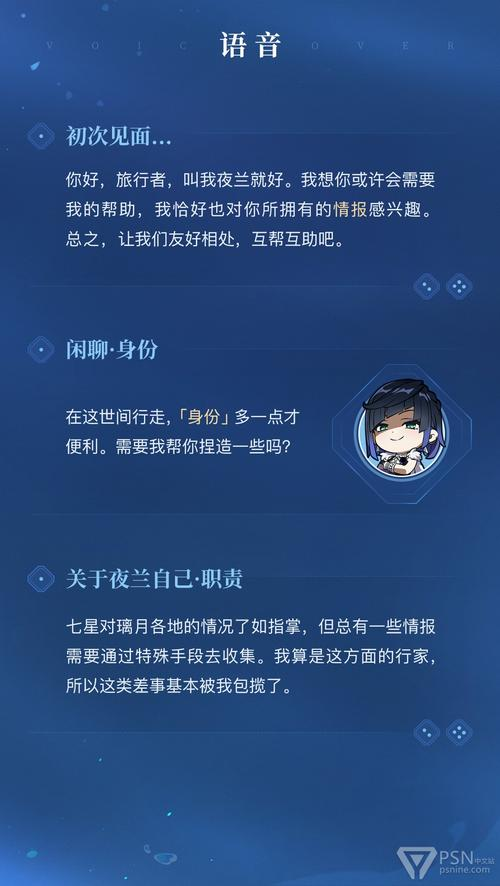夜兰: (352, 377, 449, 477)
